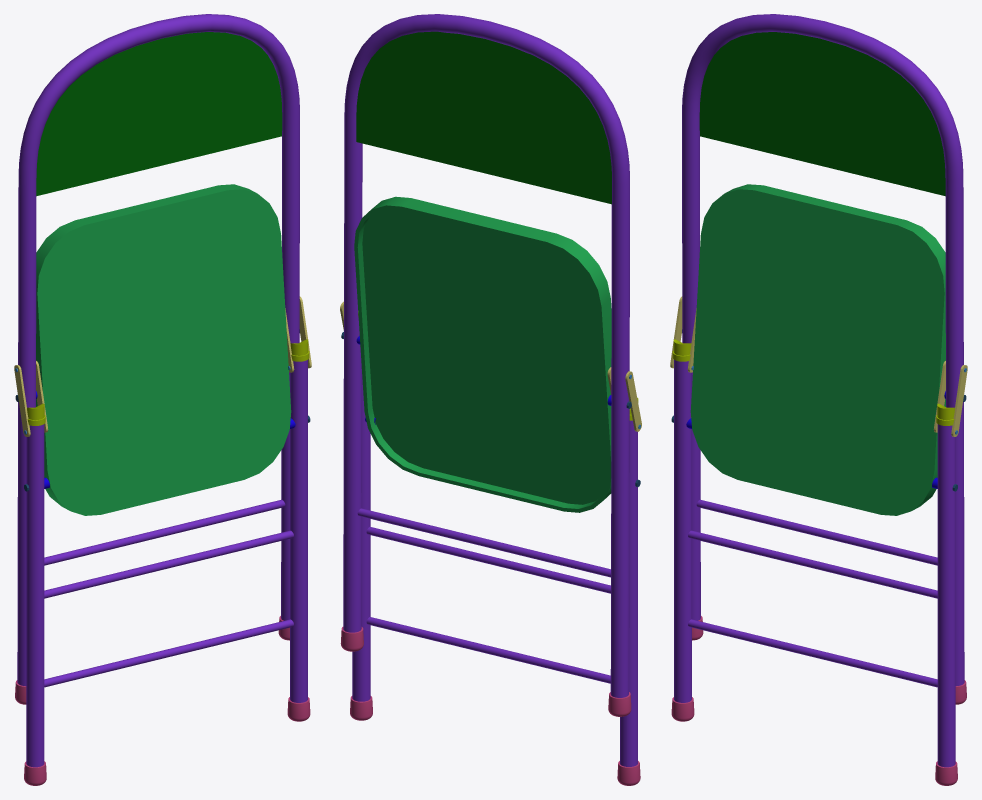
Rendered from Folding_Chair_Folded.fbx.
3 views of the same model, side by side, from view 1: azimuth 30°, elevation 25°; view 2: azimuth 150°, elevation 25°; view 3: azimuth 330°, elevation 25° (orthographic).
Parts seen in each view (by area): view 1: Model; view 2: Model; view 3: Model.
Part boxes in pixels (x1,y1,x2,y2): Model: [14, 14, 311, 785]; Model: [340, 14, 641, 785]; Model: [670, 14, 967, 785].
Bounding box in the file's own units: 50.33 × 122 × 7.98.
